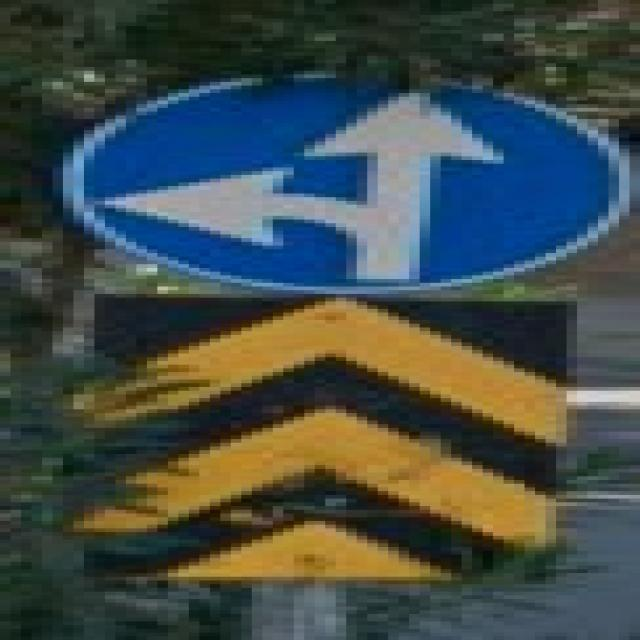Straight or Left: (69, 74, 636, 290)
